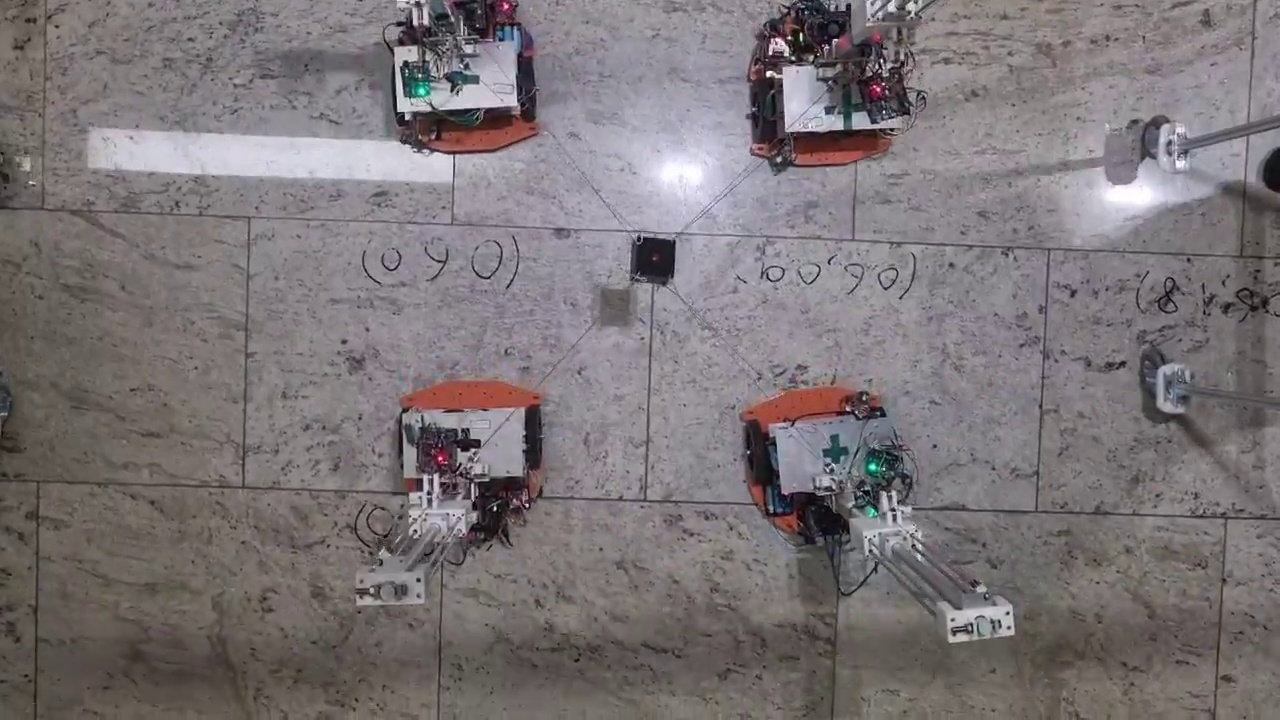e0: (636, 235, 674, 276)
r1: (746, 407, 887, 488)
r2: (751, 64, 892, 142)
r3: (390, 56, 536, 126)
r4: (400, 406, 544, 470)
y_+_axis_vector: (656, 233, 1051, 251)
y_-_axis_vector: (249, 217, 655, 233)
